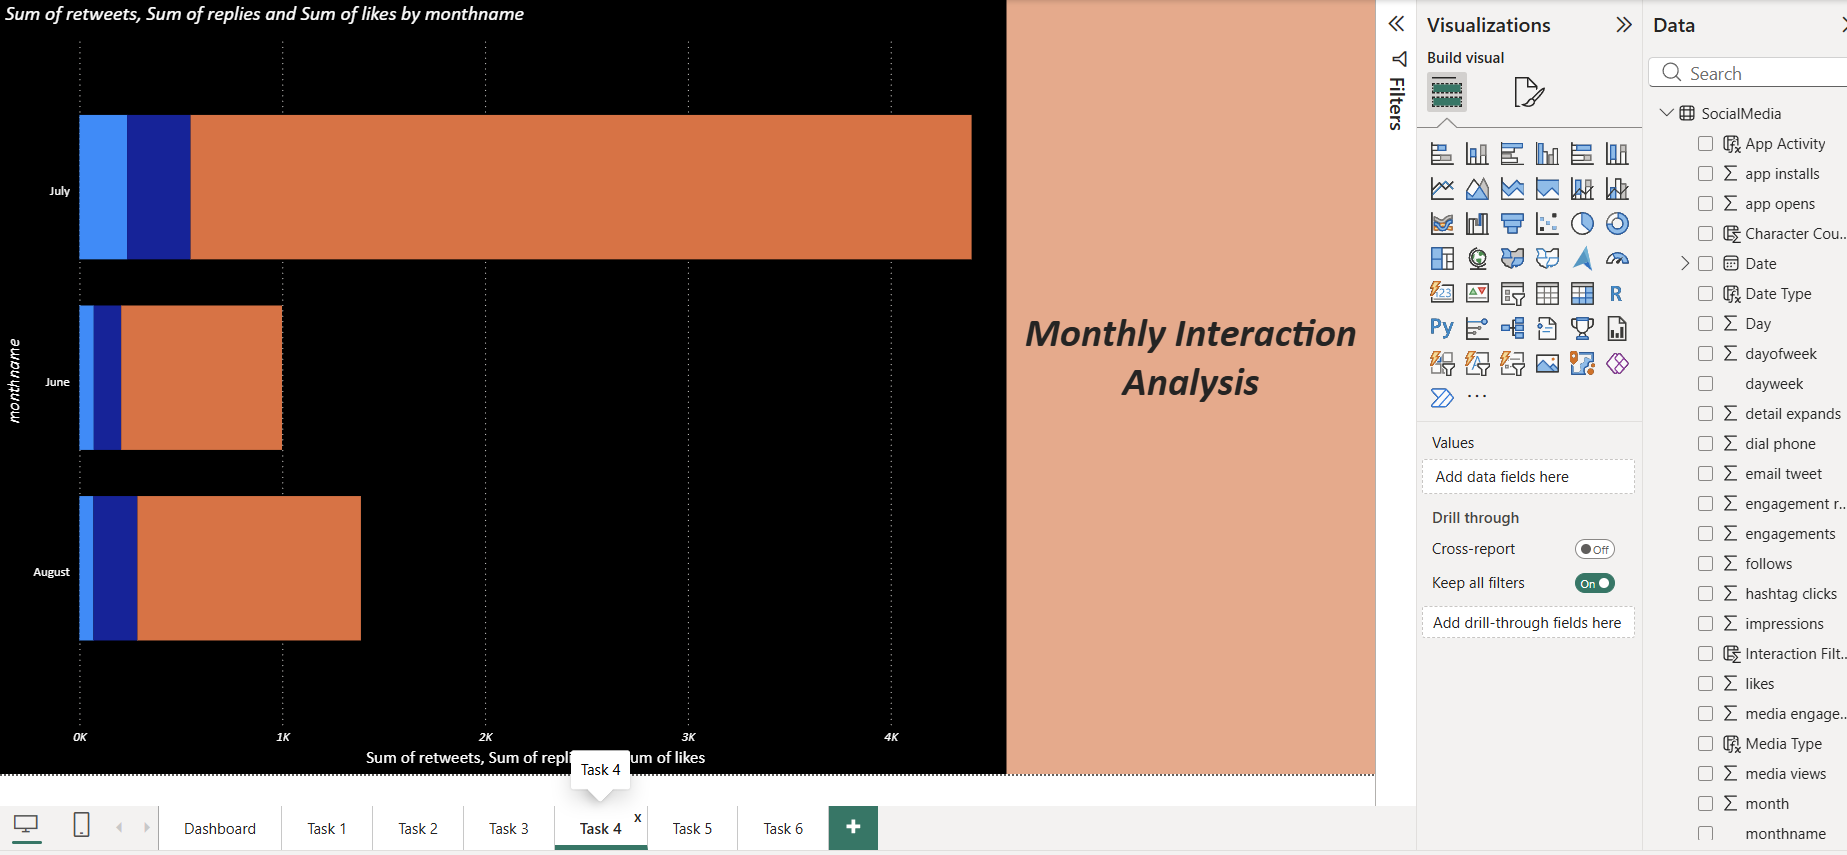

What the dashboard file says about the page in this screenshot:
{"tool":"powerbi","page":{"name":"Task 4","canvas":[1280,720],"ordinal":4},"visuals":[{"type":"barChart","fields":{"Y":["Sum(SocialMedia.retweets)","Sum(SocialMedia.replies)","Sum(SocialMedia.likes)"],"Category":["SocialMedia.monthname"]},"box":[0,0,937.2,719.8],"z":0},{"type":"textbox","box":[937.2,0,343,719.8],"z":1000}]}

Visuals, with their boxes on the page's 1280x720 design canvas (x1, y1, x2, y2). These are canvas units, not pixel positions in the 1847x855 screenshot, which may show the page scaled, cropped or inside an application window:
barChart - Sum(SocialMedia.retweets) x Sum(SocialMedia.replies): left=0, top=0, right=937, bottom=720
textbox: left=937, top=0, right=1280, bottom=720
